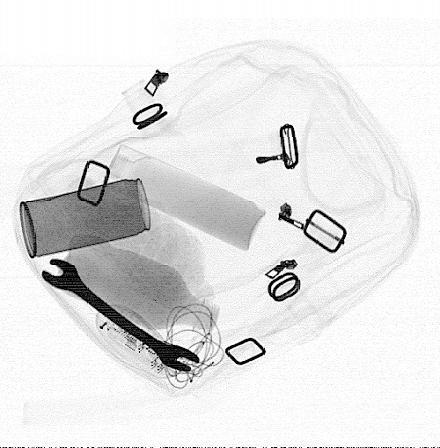Wrench: (41, 257, 200, 375)
